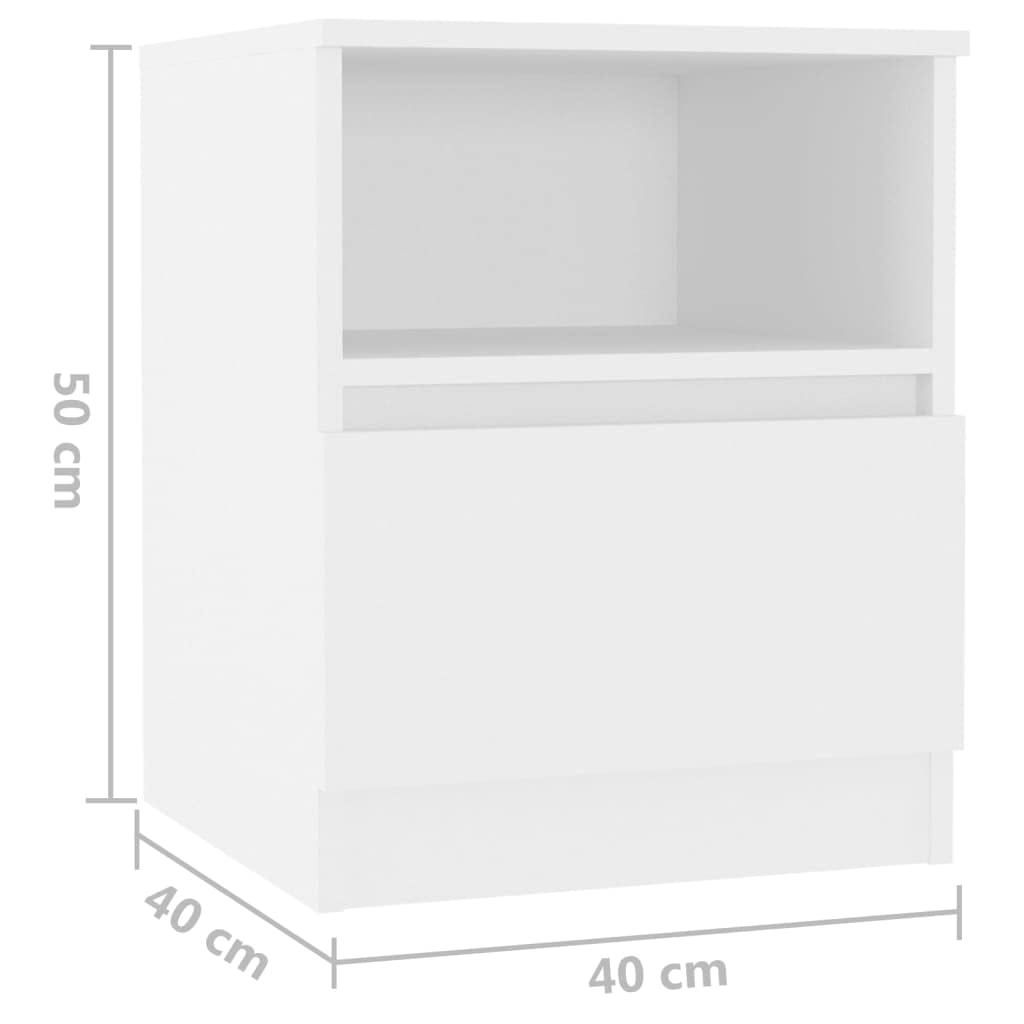40: (589, 956, 643, 994)
cm: (661, 960, 727, 990)
